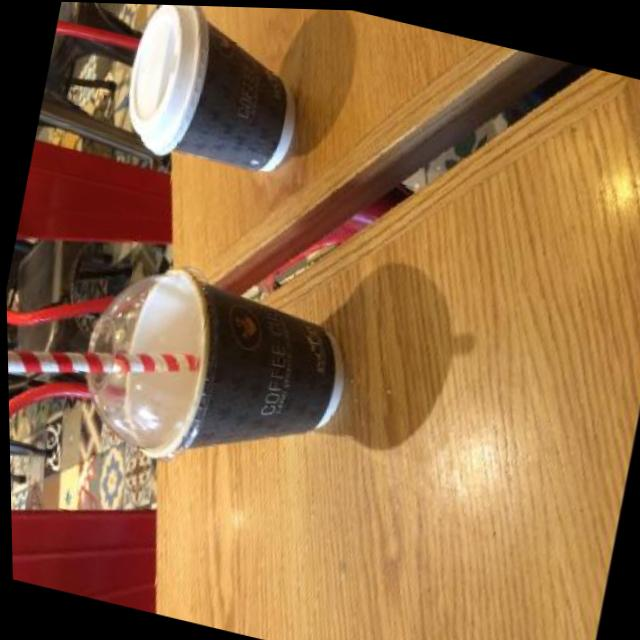cardboard: (109, 257, 365, 499), (159, 17, 315, 186)
paper: (173, 284, 363, 490)
plastic: (5, 227, 239, 465), (116, 3, 224, 161)
